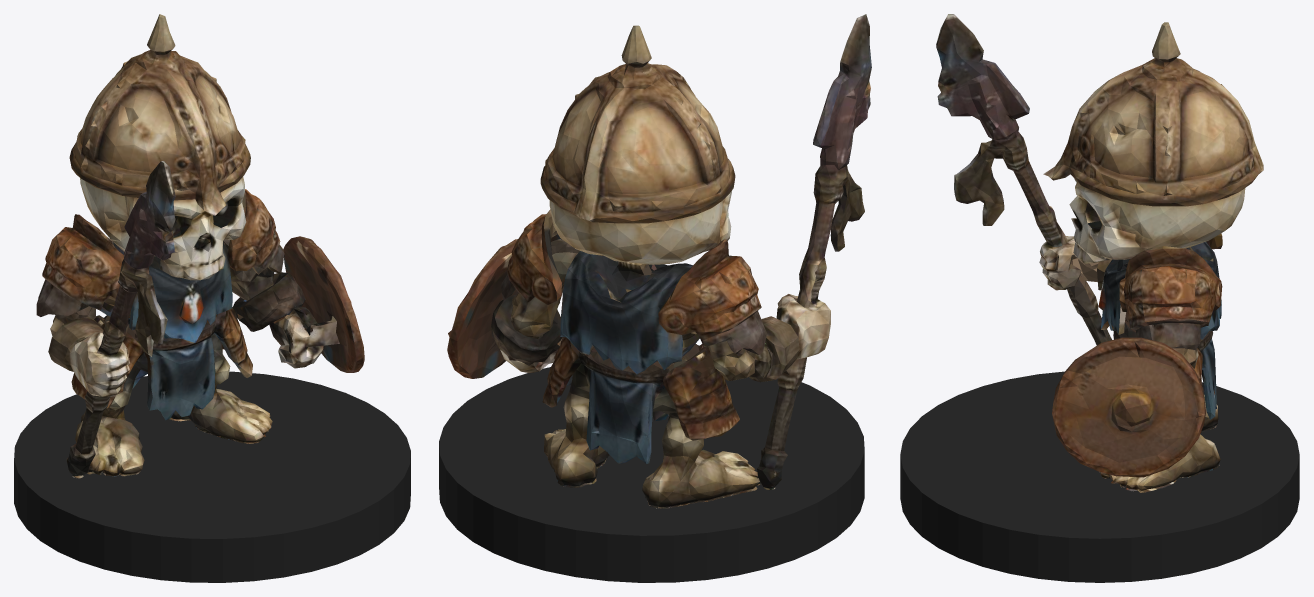
The model's file is sbg-skeleton.glb.
The picture shows the model from 3 angles, left to right: view 1: azimuth 30°, elevation 25°; view 2: azimuth 150°, elevation 25°; view 3: azimuth 270°, elevation 25°; orthographic projection. The views are drawn at different scales.
Visible parts, largest first — view 1: figure, base; view 2: figure, base; view 3: figure, base.
Boxes of the visible parts, <box> form: figure: <box>36,14,364,478</box>; base: <box>14,371,410,582</box>; figure: <box>447,14,871,508</box>; base: <box>439,367,864,582</box>; figure: <box>936,14,1263,492</box>; base: <box>900,371,1299,582</box>.
Size of the model in its own units: 0.9843 by 1.27 by 0.9843.
2 materials, 1 textured.
